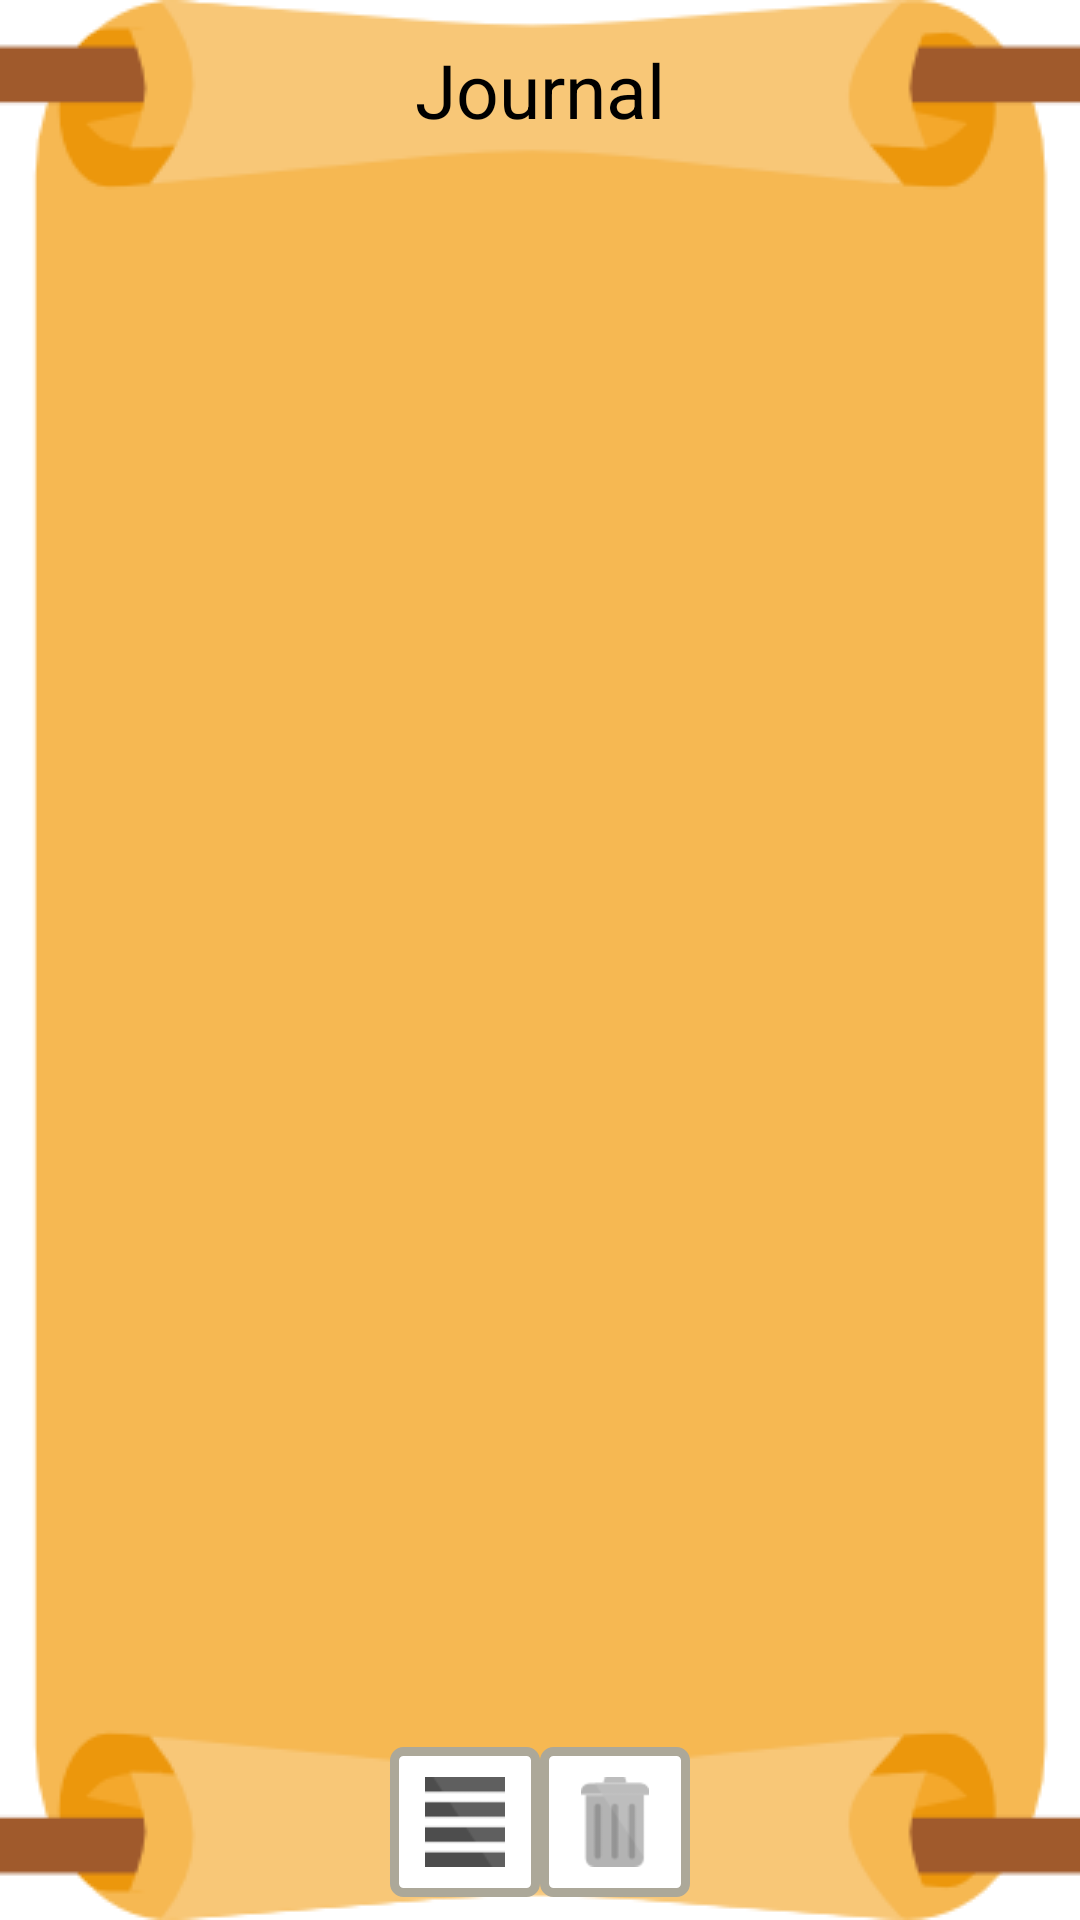

Point at icon controls on the screen. Image size 1080×1920, points as (x=x, y=y).
delete: (x=615, y=1822)
description: (x=465, y=1822)
